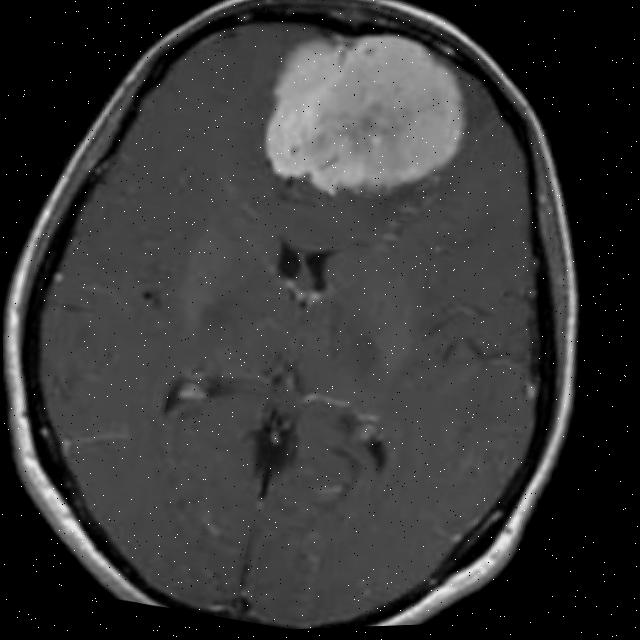Meningioma: (251, 8, 483, 225)
